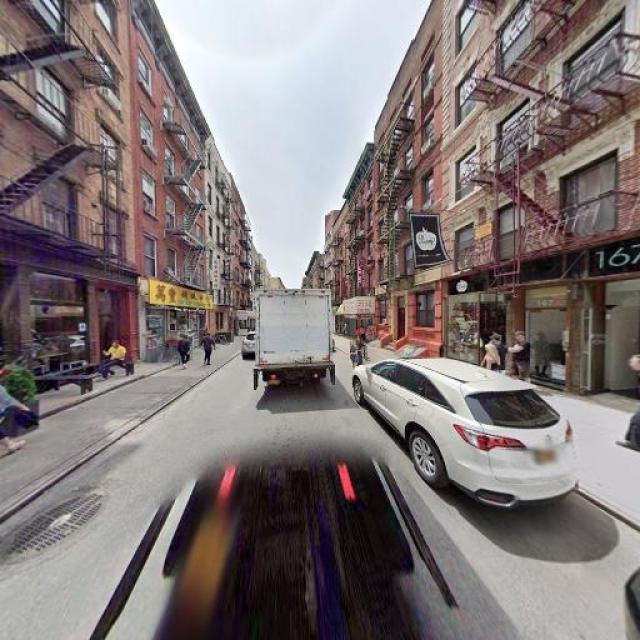Building: (444, 1, 640, 409), (1, 1, 132, 390), (137, 1, 204, 357), (379, 1, 440, 358), (352, 129, 376, 343), (207, 133, 230, 339)
